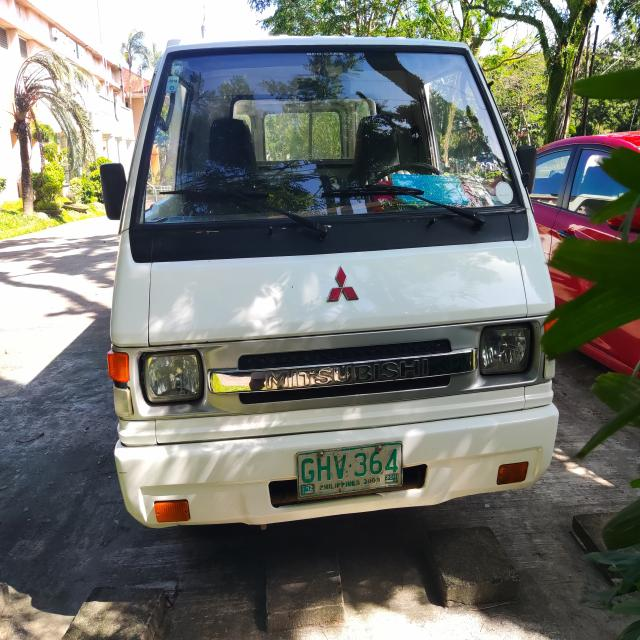plate: (291, 438, 408, 503)
